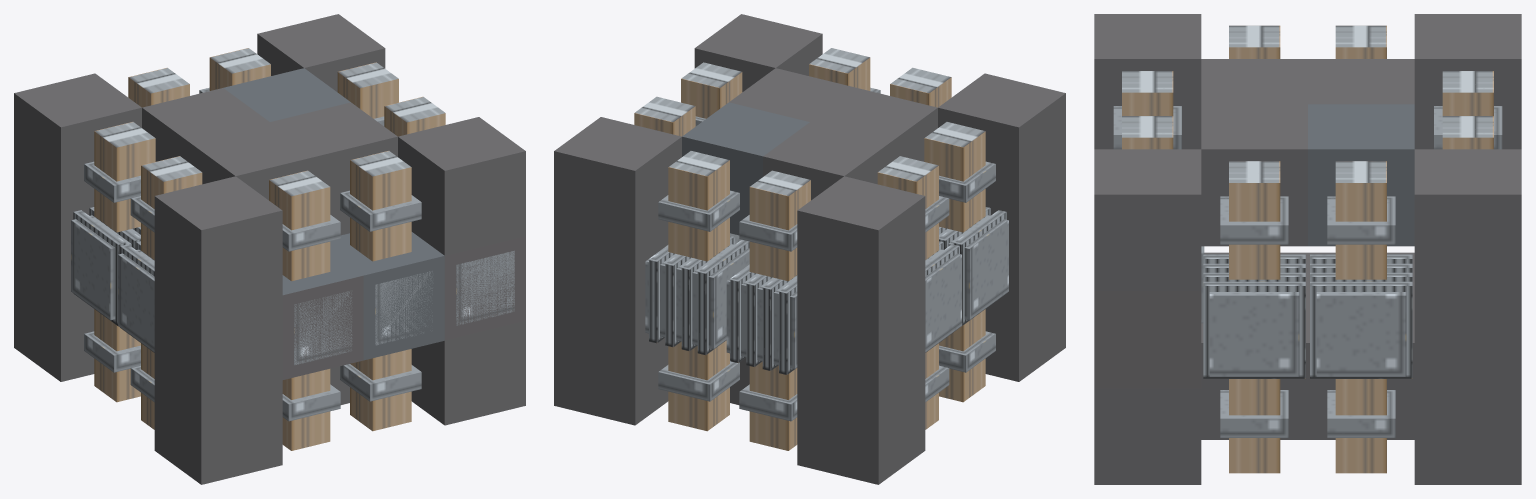
Rendered from steam_condenser.obj.
The picture shows the model from 3 angles, left to right: view 1: azimuth 30°, elevation 25°; view 2: azimuth 150°, elevation 25°; view 3: azimuth 270°, elevation 25°; orthographic projection. The views are drawn at different scales.
Parts seen in each view (by area): view 1: steam_condenser; view 2: steam_condenser; view 3: steam_condenser.
Part boxes in pixels (x1,y1,x2,y2): steam_condenser: [14, 14, 525, 484]; steam_condenser: [554, 14, 1065, 484]; steam_condenser: [1094, 14, 1521, 484].
Bounding box in the file's own units: 4 × 3 × 4.
